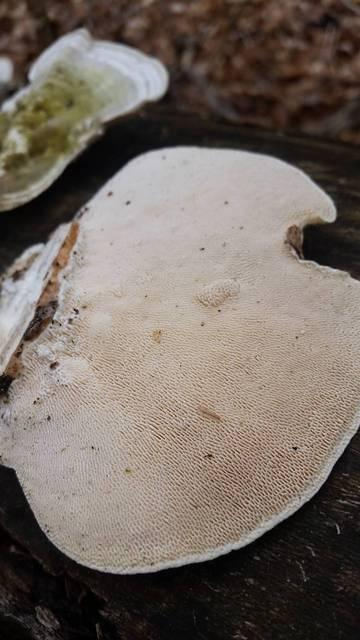Non-edible Mushroom: (0, 142, 359, 575), (0, 25, 170, 212)
